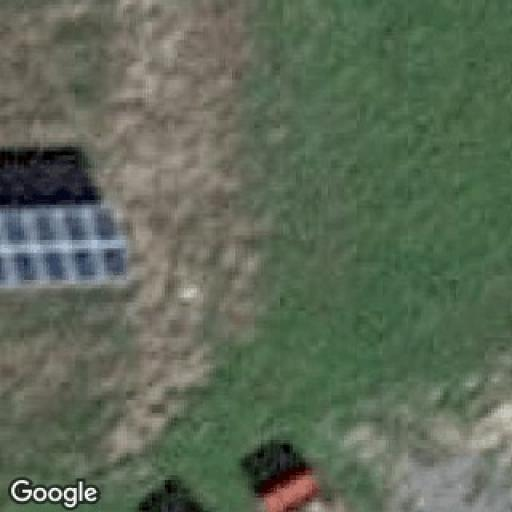solar-panel: (2, 205, 131, 278)
